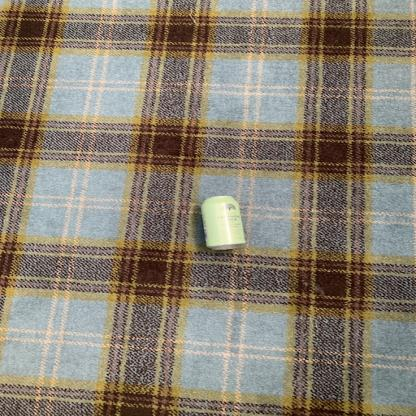trash: (195, 193, 247, 255)
